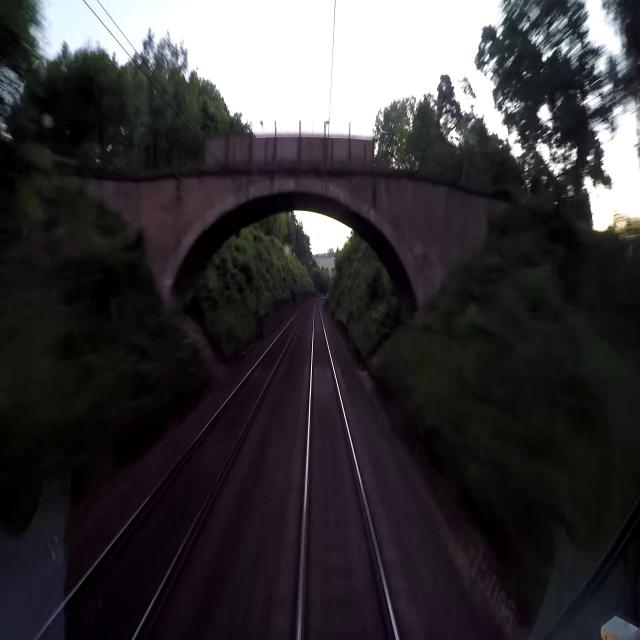rail-track: (40, 304, 307, 639), (301, 302, 395, 639)
